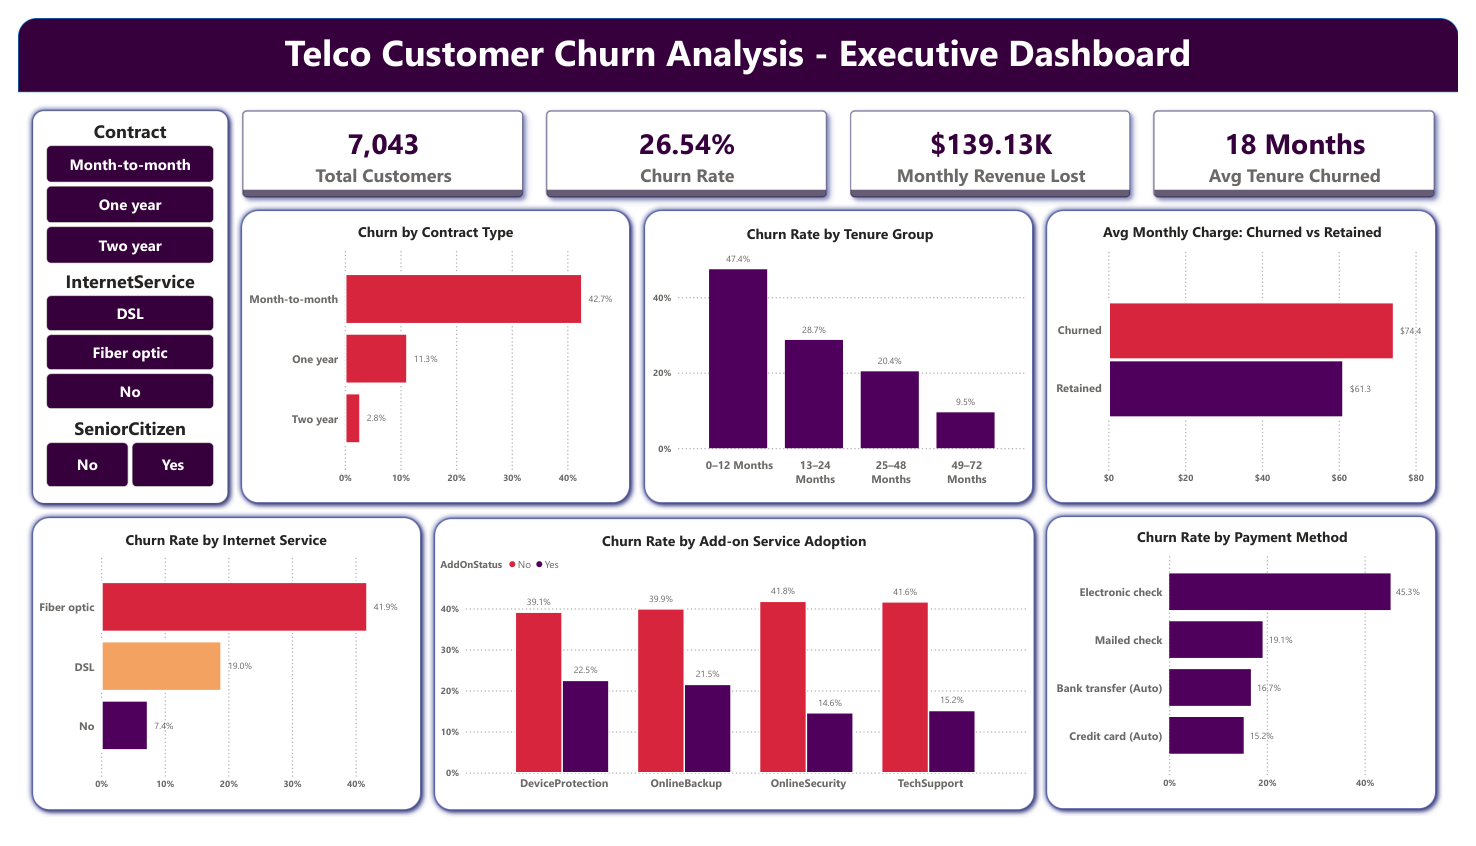

The page's visual inventory and layout, read from the dashboard file:
{"tool":"powerbi","page":{"name":"Page 1","canvas":[1920,1080],"ordinal":0},"visuals":[{"type":"shape","box":[0,0,1920.6,98.8],"z":0},{"type":"textbox","box":[0,6.7,1920,86.7],"z":1000},{"type":"cardVisual","fields":{"Data":["telco_churn_db telco_churn.Total Customers","telco_churn_db telco_churn.Churn Rate","telco_churn_db telco_churn.Monthly Revenue Lost","telco_churn_db telco_churn.Avg Tenure Churned"]},"box":[278.9,102.8,1631.1,157.2],"z":2000},{"type":"shape","box":[288.9,248.3,537.2,407.9],"z":3000},{"type":"shape","box":[10.1,114,278.7,542.2],"z":4000},{"type":"shape","box":[826,248.3,537.2,407.9],"z":5000},{"type":"shape","box":[1363.2,248.3,537.2,407.9],"z":6000},{"type":"shape","box":[10,656.7,536.7,408.3],"z":7000},{"type":"shape","box":[546,658,818,408],"z":8000},{"type":"shape","box":[1363.2,656.3,537.2,407.9],"z":9000},{"type":"clusteredBarChart","title":"Churn by Contract Type","fields":{"Category":["telco_churn_db telco_churn.Contract"],"Y":["telco_churn_db telco_churn.Churn Rate"]},"box":[302.2,272.2,510,358.9],"z":10000},{"type":"clusteredColumnChart","title":"Churn Rate by Tenure Group","fields":{"Category":["telco_churn_db telco_churn.tenure_group"],"Y":["telco_churn_db telco_churn.Churn Rate"]},"box":[841.2,273.7,509.3,359.8],"z":11000},{"type":"clusteredBarChart","title":"Avg Monthly Charge: Churned vs Retained","fields":{"Y":["Avg(telco_churn_db telco_churn.MonthlyCharges)"],"Category":["telco_churn_db telco_churn.Churn_Label"]},"box":[1377.8,272.2,508.9,360],"z":12000},{"type":"clusteredBarChart","title":"Churn Rate by Internet Service","fields":{"Category":["telco_churn_db telco_churn.InternetService"],"Y":["telco_churn_db telco_churn.Churn Rate"]},"box":[21.7,683.3,511.7,356.7],"z":13000},{"type":"barChart","title":"Churn Rate by Payment Method","fields":{"Y":["telco_churn_db telco_churn.Churn Rate"],"Category":["telco_churn_db telco_churn.PaymentMethod"]},"box":[1378.3,678.3,508.3,360],"z":14000},{"type":"clusteredColumnChart","title":"Churn Rate by Add-on Service Adoption","fields":{"Category":["telco_addon_churn.AddOnService"],"Y":["telco_churn_db telco_churn.Addon Churn Rate"],"Series":["telco_addon_churn.AddOnStatus"]},"box":[558,684,794,356],"z":15000},{"type":"advancedSlicerVisual","fields":{"Values":["telco_churn_db telco_churn.Contract"]},"box":[32.9,134.3,233.1,200.2],"z":15001},{"type":"advancedSlicerVisual","fields":{"Values":["telco_churn_db telco_churn.InternetService"]},"box":[32.9,334.5,233.1,195.1],"z":15002},{"type":"advancedSlicerVisual","fields":{"Values":["telco_churn_db telco_churn.SeniorCitizen"]},"box":[32.9,529.6,233.1,101.4],"z":15003}]}

Visuals, with their boxes in screenshot pixels (x1, y1, x2, y2), scaled from the page's 1920x1080 canvas onto the 1476x846 screenshot:
shape: <bbox>0, 0, 1475, 77</bbox>
textbox: <bbox>0, 5, 1475, 73</bbox>
cardVisual - telco_churn_db telco_churn.Total Customers x telco_churn_db telco_churn.Churn Rate: <bbox>214, 81, 1468, 204</bbox>
shape: <bbox>222, 195, 635, 514</bbox>
shape: <bbox>8, 89, 222, 514</bbox>
shape: <bbox>635, 195, 1048, 514</bbox>
shape: <bbox>1048, 195, 1461, 514</bbox>
shape: <bbox>8, 514, 420, 834</bbox>
shape: <bbox>420, 515, 1049, 835</bbox>
shape: <bbox>1048, 514, 1461, 834</bbox>
"Churn by Contract Type" clusteredBarChart: <bbox>232, 213, 624, 494</bbox>
"Churn Rate by Tenure Group" clusteredColumnChart: <bbox>647, 214, 1038, 496</bbox>
"Avg Monthly Charge: Churned vs Retained" clusteredBarChart: <bbox>1059, 213, 1450, 495</bbox>
"Churn Rate by Internet Service" clusteredBarChart: <bbox>17, 535, 410, 815</bbox>
"Churn Rate by Payment Method" barChart: <bbox>1060, 531, 1450, 813</bbox>
"Churn Rate by Add-on Service Adoption" clusteredColumnChart: <bbox>429, 536, 1039, 815</bbox>
advancedSlicerVisual - telco_churn_db telco_churn.Contract: <bbox>25, 105, 204, 262</bbox>
advancedSlicerVisual - telco_churn_db telco_churn.InternetService: <bbox>25, 262, 204, 415</bbox>
advancedSlicerVisual - telco_churn_db telco_churn.SeniorCitizen: <bbox>25, 415, 204, 494</bbox>
